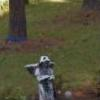Statue: (22, 43, 74, 100)
